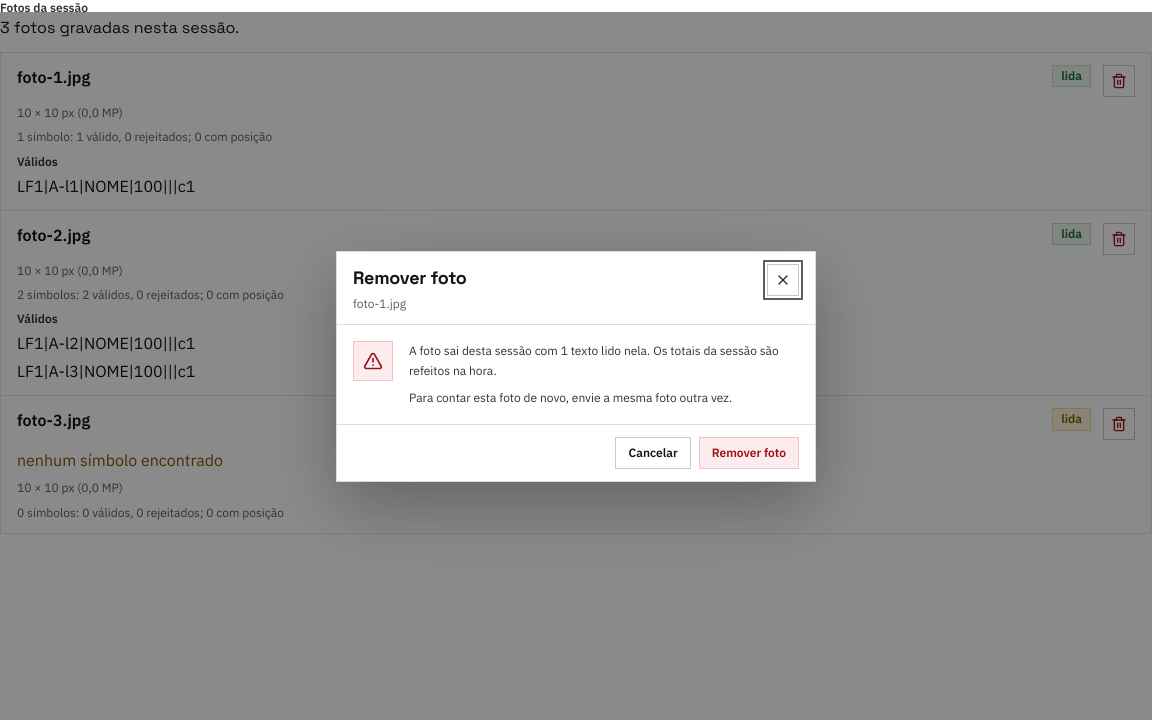
Test case: SessionSources › mantém a pergunta aberta com o aviso quando a remoção falha
The image size is (1152, 720).
Click the button "Remover foto" at (749,452), box [699,436,799,468]
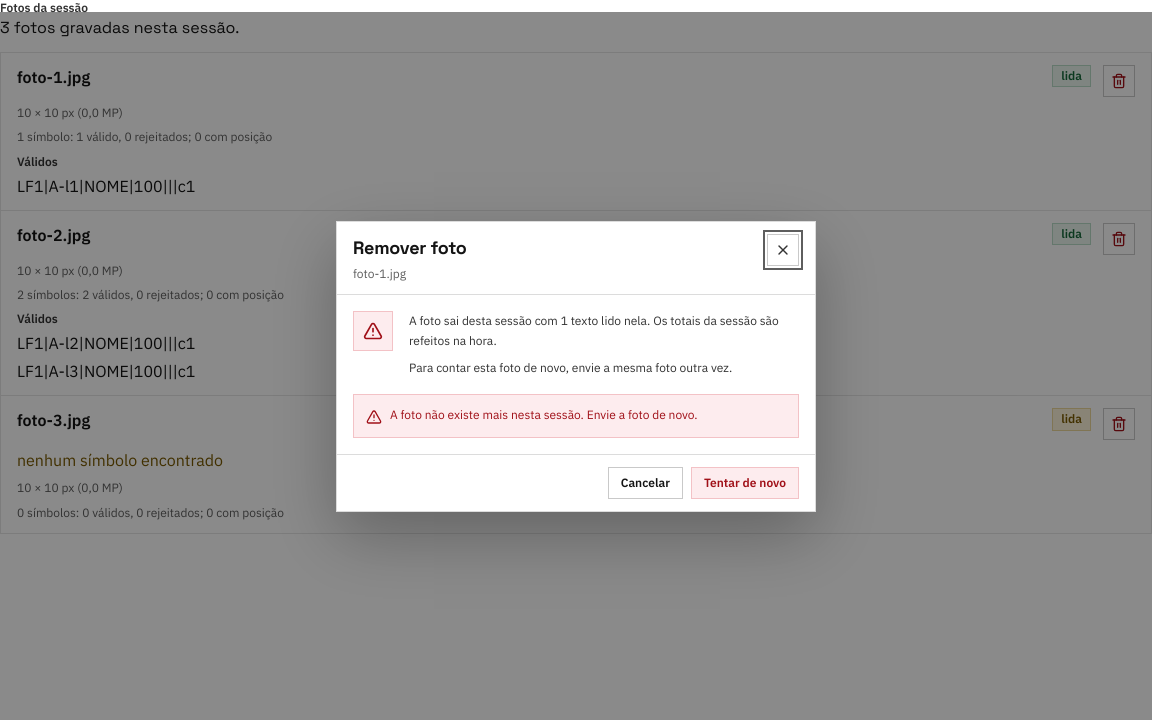
Expected: the button "Tentar de novo" is shown, [691,466,799,498]
Now the message "A foto não existe mais nesta sessão. Envie a foto de novo." is shown, box [353,394,799,438]
